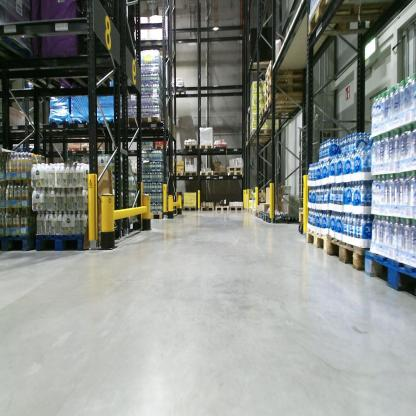pallet: (304, 3, 399, 44), (364, 250, 414, 296), (325, 233, 373, 273), (33, 230, 102, 254), (1, 229, 51, 253), (264, 60, 306, 83), (264, 76, 305, 97), (264, 85, 302, 106), (137, 108, 168, 133), (264, 68, 304, 86), (264, 95, 304, 113), (305, 224, 328, 254), (259, 106, 299, 120), (264, 211, 304, 224), (114, 112, 139, 128), (249, 130, 280, 141), (49, 111, 71, 126), (149, 207, 167, 221), (184, 169, 199, 178), (200, 202, 215, 210), (228, 169, 243, 176), (212, 170, 227, 177), (139, 145, 154, 152), (184, 143, 199, 150), (200, 170, 213, 178), (228, 165, 244, 171), (182, 205, 198, 211), (212, 143, 228, 149), (229, 204, 244, 210), (215, 204, 230, 210), (199, 143, 212, 149), (260, 209, 265, 222), (256, 209, 260, 217), (248, 207, 252, 214), (253, 208, 256, 216), (250, 208, 252, 213)
